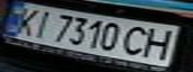0: (100, 20, 127, 53)
1: (81, 18, 106, 51)
3: (66, 15, 87, 47)
7: (45, 11, 75, 44)
C: (118, 24, 157, 57)
H: (136, 25, 184, 61)
I: (27, 8, 60, 39)
K: (6, 4, 45, 36)
